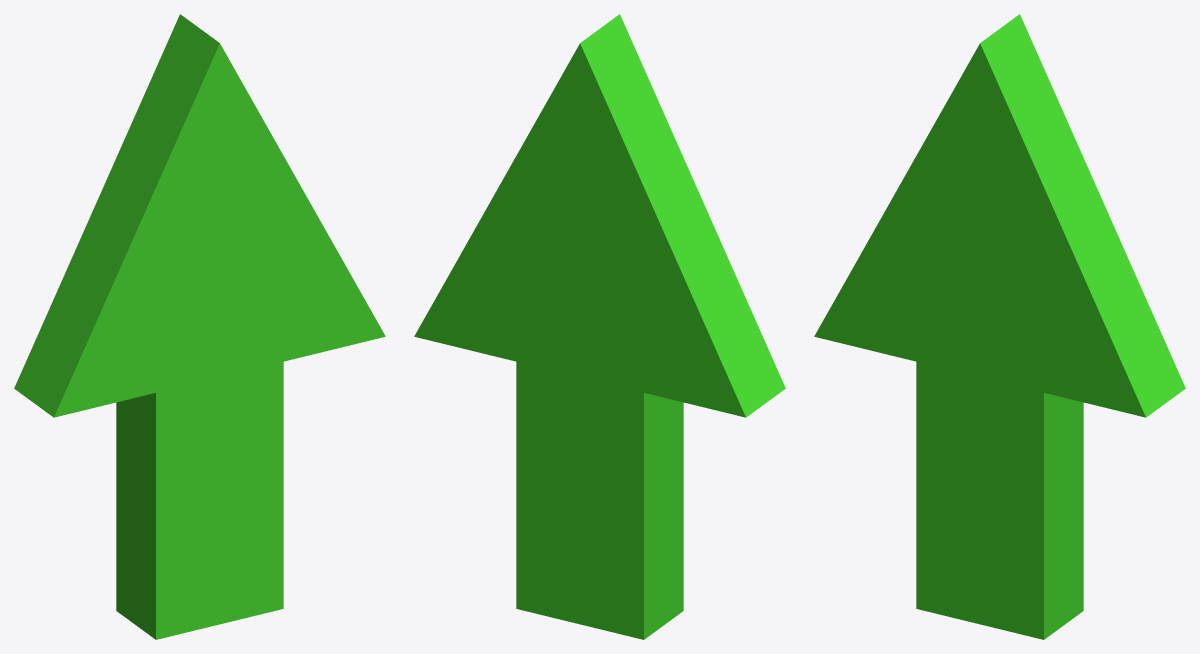
The model's file is greenArrow.fbx.
3 views of the same model, side by side, from view 1: azimuth 30°, elevation 25°; view 2: azimuth 150°, elevation 25°; view 3: azimuth 330°, elevation 25° (orthographic).
Parts seen in each view (by area): view 1: green_arrow; view 2: green_arrow; view 3: green_arrow.
Boxes of the visible parts, left/top/right/bottom form: green_arrow: left=14, top=14, right=385, bottom=639; green_arrow: left=414, top=14, right=785, bottom=639; green_arrow: left=814, top=14, right=1185, bottom=639.
Size of the model in its own units: 520 by 870 by 108.
